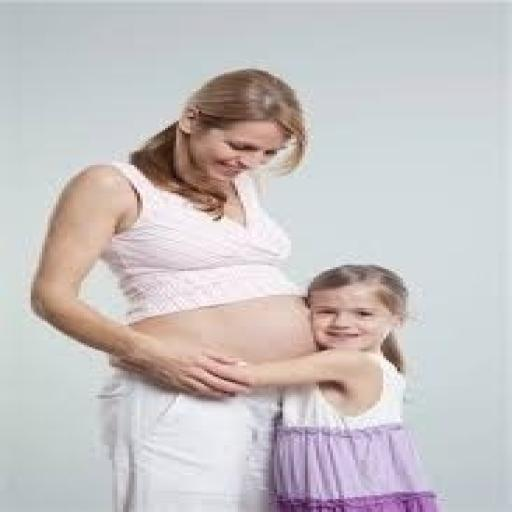hugging: (25, 65, 445, 510)
